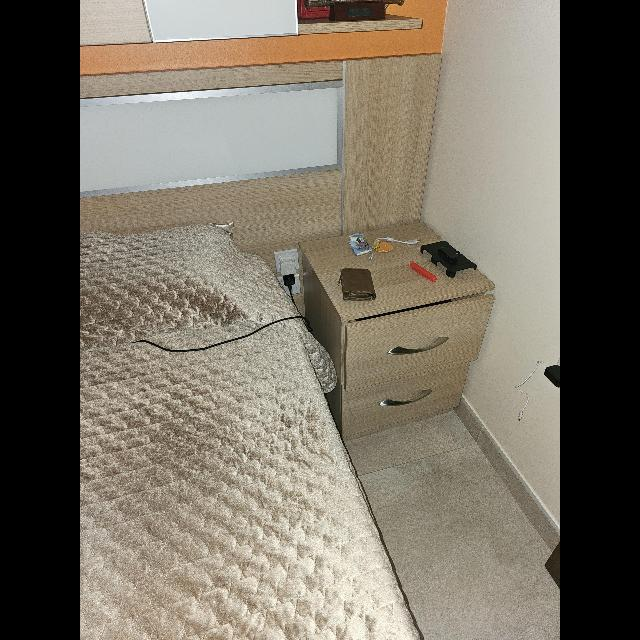Wallet: (339, 268, 376, 302)
